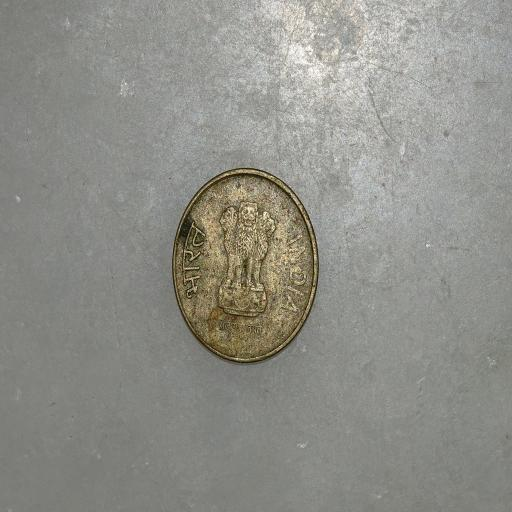rupee5: (165, 166, 319, 365)
